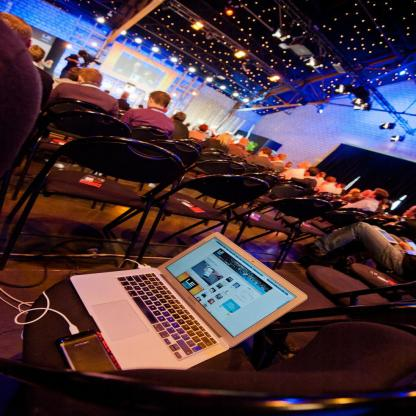board: (67, 233, 306, 373)
